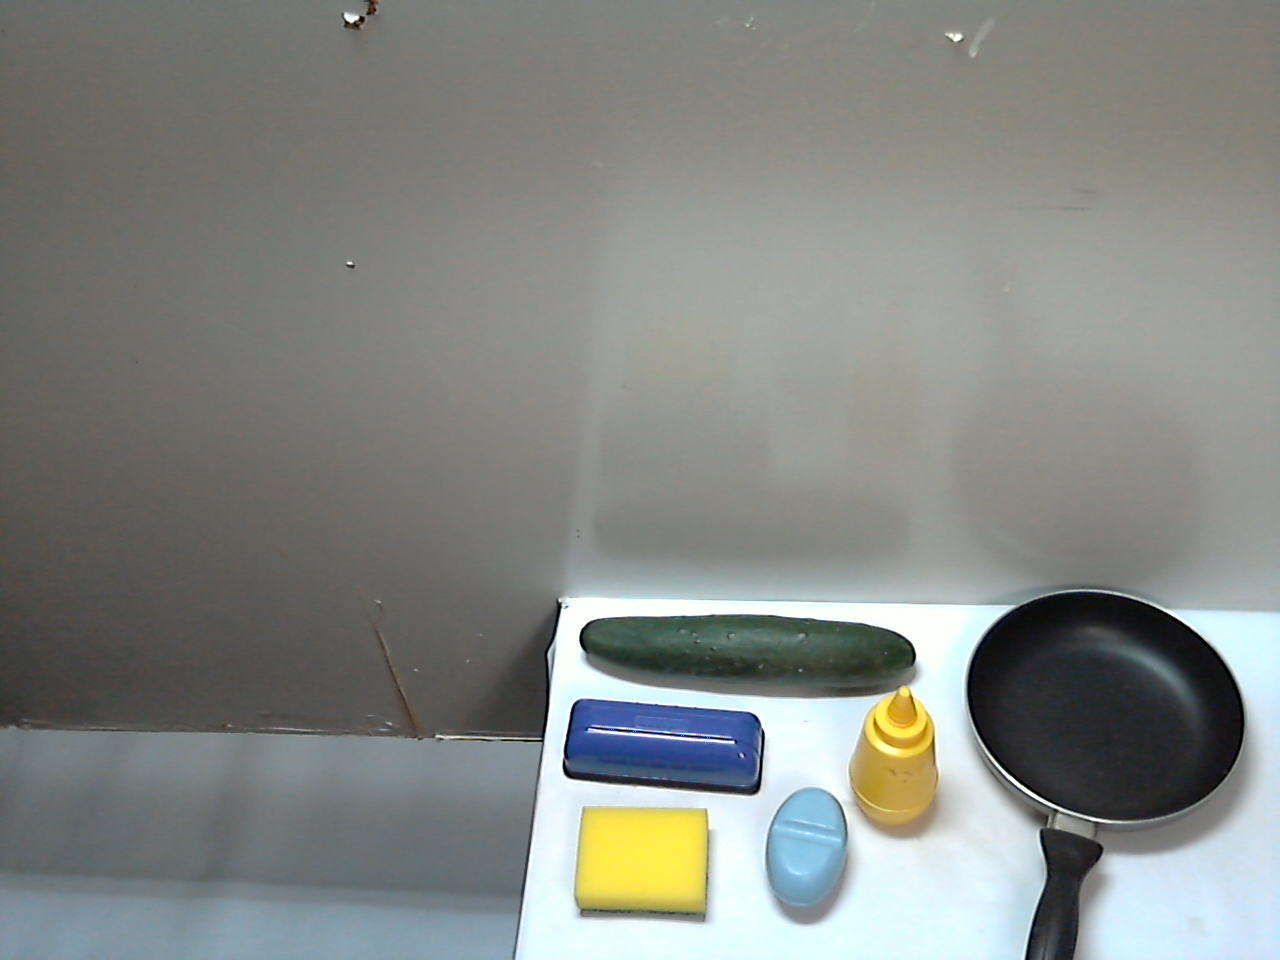esponja: (739, 841, 901, 960)
estuche: (491, 811, 755, 960)
pescado: (689, 636, 851, 857)
platoperro: (833, 651, 1164, 939)
sarten: (376, 592, 724, 960)
